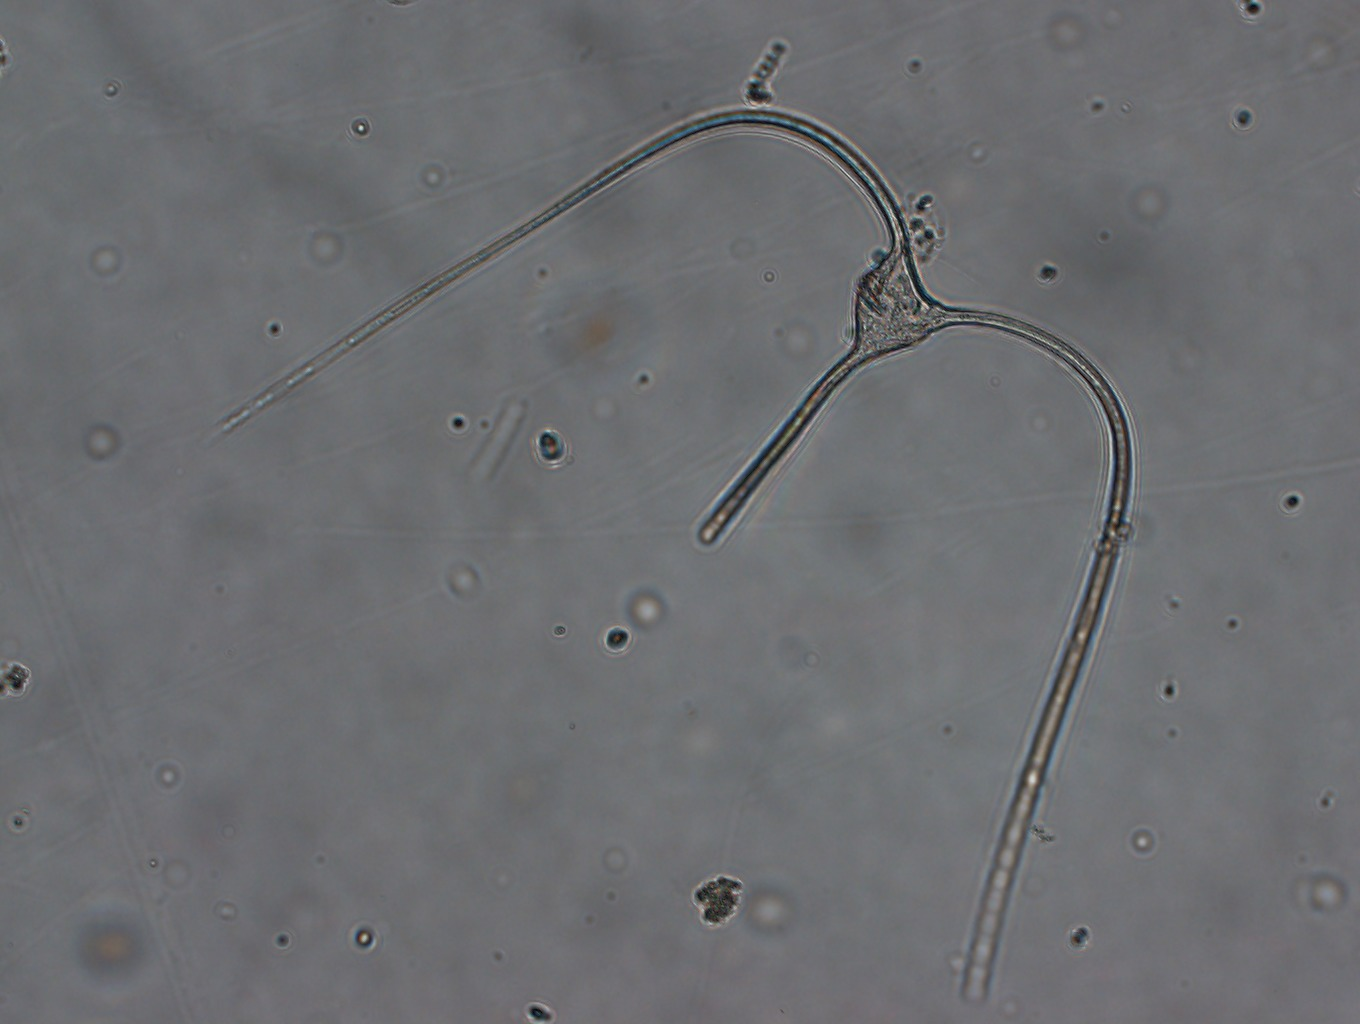ceratium trichoceros: (183, 90, 1145, 1012)
